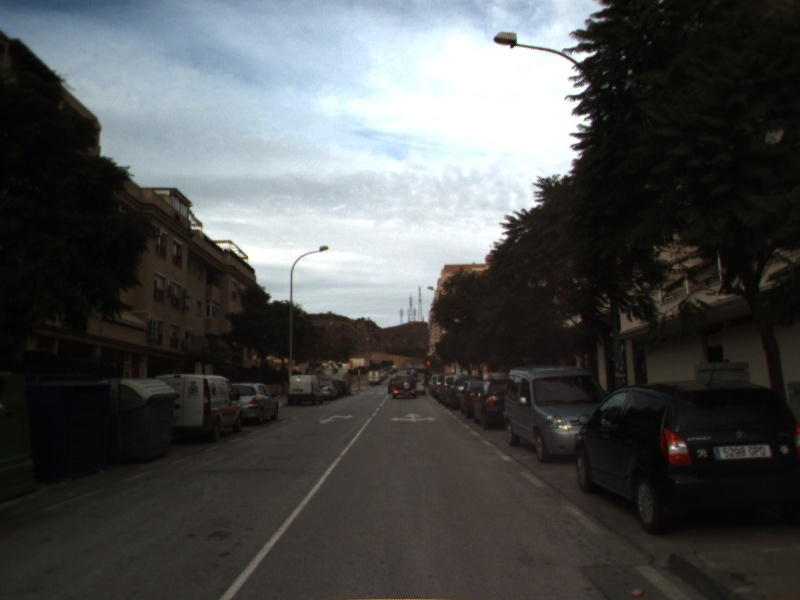STRAIGHT_LEFT_RIGHT: (388, 410, 439, 424)
